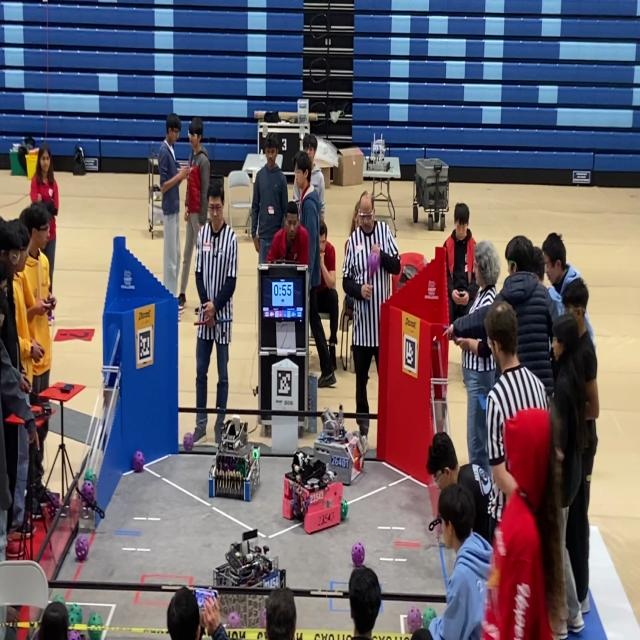artifact_green: (68, 604, 82, 625), (423, 608, 436, 628), (88, 613, 102, 627), (84, 469, 95, 484), (341, 499, 348, 521), (236, 460, 245, 477), (53, 595, 66, 606), (253, 448, 259, 460), (32, 630, 38, 639)
artifact_purple: (407, 606, 422, 634), (75, 535, 89, 561), (47, 494, 60, 519), (81, 481, 95, 504), (226, 611, 242, 629), (352, 543, 364, 566), (368, 252, 379, 276), (133, 451, 144, 472), (183, 432, 193, 450), (259, 608, 266, 628), (68, 630, 81, 639), (32, 631, 38, 639)
